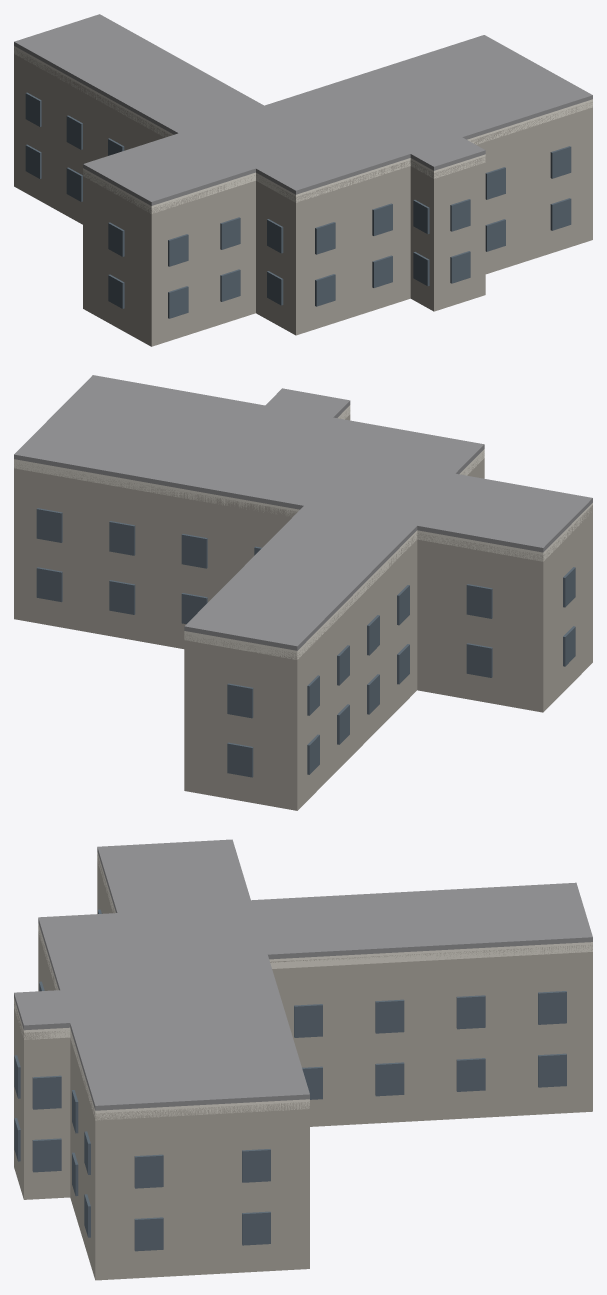
The model's file is s05_gis_248006_820660.glb.
3 views of the same model, one above another, from view 1: azimuth 30°, elevation 25°; view 2: azimuth 150°, elevation 25°; view 3: azimuth 270°, elevation 25° (orthographic). The views are drawn at different scales.
Parts seen in each view (by area): view 1: mass, roofcap, cornice, win_9_0_1, win_9_1_1, win_3_0_0, win_3_0_1, win_3_1_0, win_3_1_1, win_5_0_0, win_5_0_1, win_5_1_0 (+15 smaller); view 2: mass, roofcap, cornice, win_13_0_0, win_11_1_1, win_13_1_0, win_1_0_0, win_1_1_0, win_11_0_0, win_11_0_1, win_11_1_0, win_11_1_2 (+1 smaller); view 3: mass, roofcap, cornice, win_12_1_1, win_10_0_0, win_12_0_1, win_8_0_0, win_8_1_0, win_10_1_0, win_12_1_2, win_12_0_2, win_10_0_1 (+4 smaller).
Part boxes in pixels (x1,y1,x2,y2): mass: (14,48,592,346); roofcap: (14,14,592,205); cornice: (14,46,592,213); win_9_0_1: (550,198,571,230); win_9_1_1: (550,146,571,178); win_3_0_0: (168,286,188,318); win_3_0_1: (220,269,240,301); win_3_1_0: (168,234,188,266); win_3_1_1: (220,217,240,249); win_5_0_0: (315,274,335,306); win_5_0_1: (372,255,392,287); win_5_1_0: (315,222,335,254); mass: (14,410,592,810); roofcap: (14,375,592,650); cornice: (14,405,592,659); win_13_0_0: (227,742,253,777); win_11_1_1: (109,521,135,555); win_13_1_0: (227,683,253,718); win_1_0_0: (466,643,492,677); win_1_1_0: (466,584,492,618); win_11_0_0: (36,567,62,602); win_11_0_1: (109,580,135,614); win_11_1_0: (36,508,62,542); win_11_1_2: (181,534,207,568); mass: (14,854,592,1280); roofcap: (14,839,592,1110); cornice: (14,852,592,1120); win_12_1_1: (375,999,404,1033); win_10_0_0: (134,1217,163,1251); win_12_0_1: (375,1062,404,1096); win_8_0_0: (32,1138,61,1172); win_8_1_0: (32,1075,61,1109); win_10_1_0: (134,1154,163,1188); win_12_1_2: (456,995,485,1029); win_12_0_2: (456,1058,485,1091); win_10_0_1: (242,1211,270,1245).
Size of the model in its own units: 27.34 by 8.35 by 25.1.
